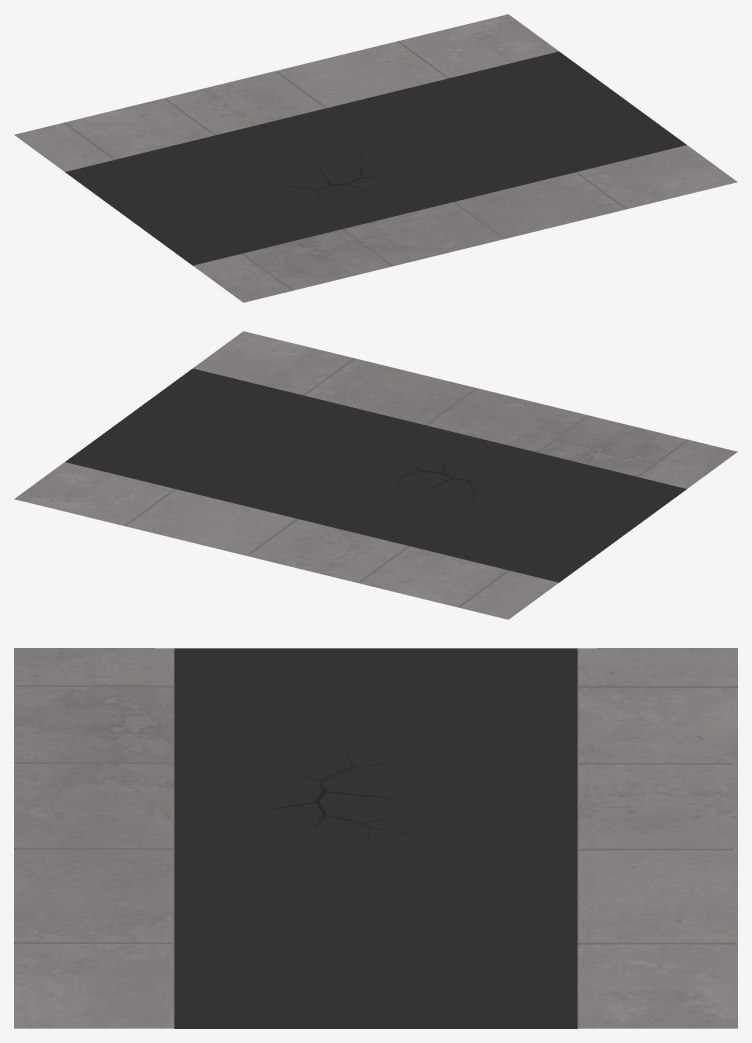
The model's file is Road_Short_Flat.fbx.
The picture shows the model from 3 angles, top to bottom: view 1: azimuth 30°, elevation 25°; view 2: azimuth 150°, elevation 25°; view 3: azimuth 270°, elevation 25°; orthographic projection. The views are drawn at different scales.
Parts seen in each view (by area): view 1: Road_Short001; view 2: Road_Short001; view 3: Road_Short001.
Part boxes in pixels (box(x1,y1,x2,y2)): Road_Short001: box(14, 14, 737, 302); Road_Short001: box(14, 331, 737, 619); Road_Short001: box(14, 648, 737, 1028).
Bounding box in the file's own units: 702 × 565 × 0.1106.
